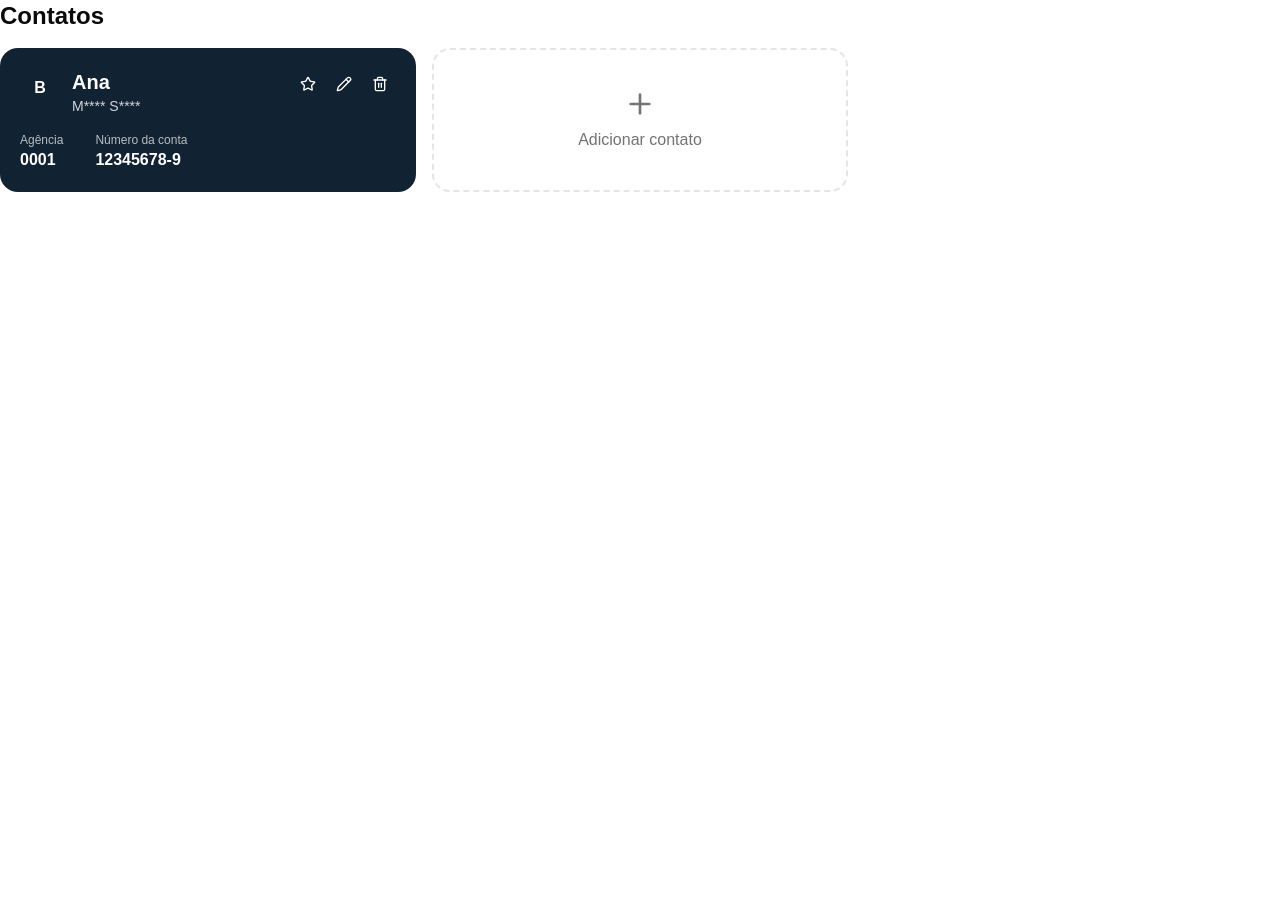
Test: lista de contatos › cancelar renomear descarta o rascunho: reabrir mostra o apelido real
expect the text "Ana" is shown: met, box [72, 71, 110, 93]
Click the button named "Renomear" at {"x": 344, "y": 84}, box [328, 68, 360, 100]
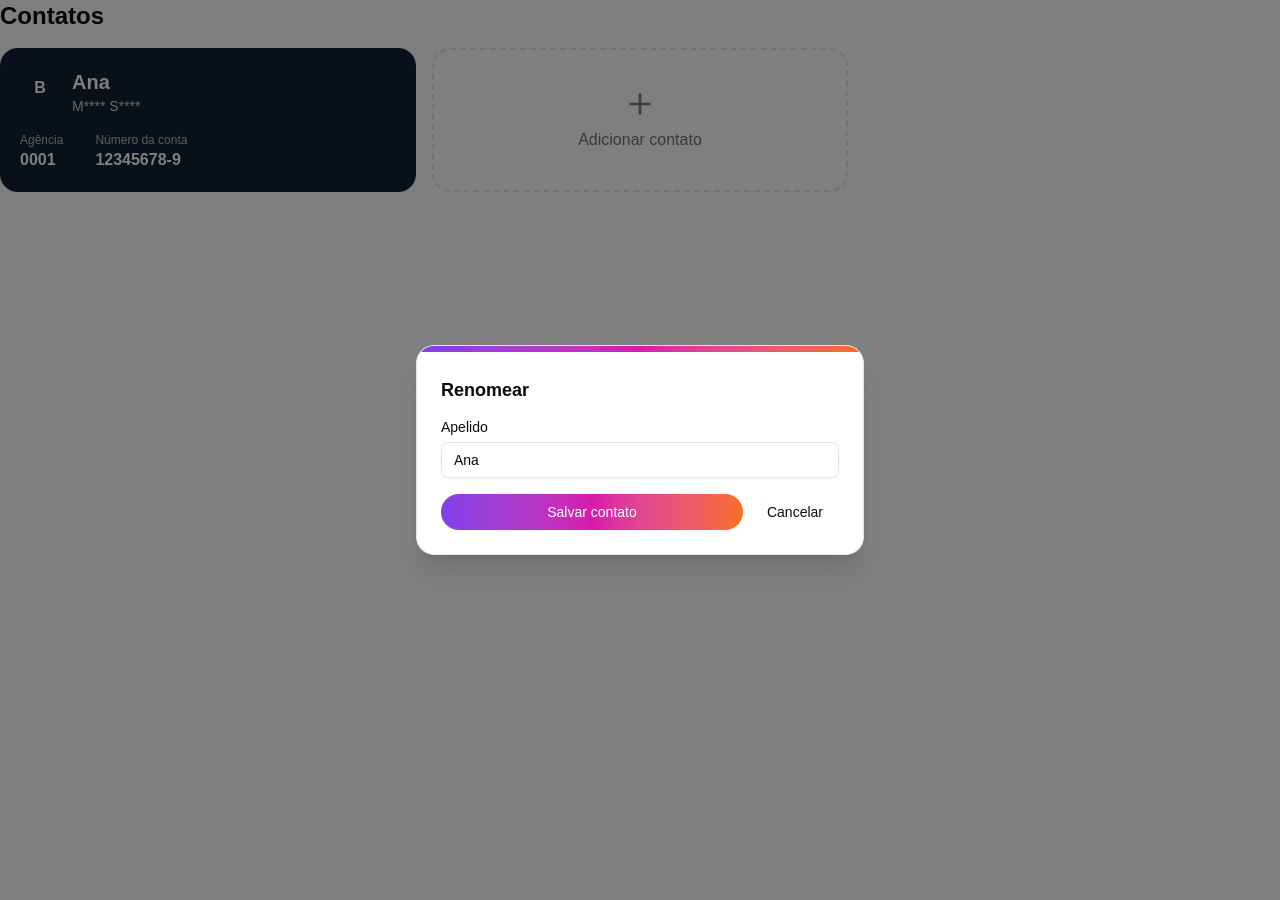
Replace the text in the field labelled "Apelido" with "Rascunho Abandonado" at {"x": 640, "y": 460}, box [441, 442, 839, 478]
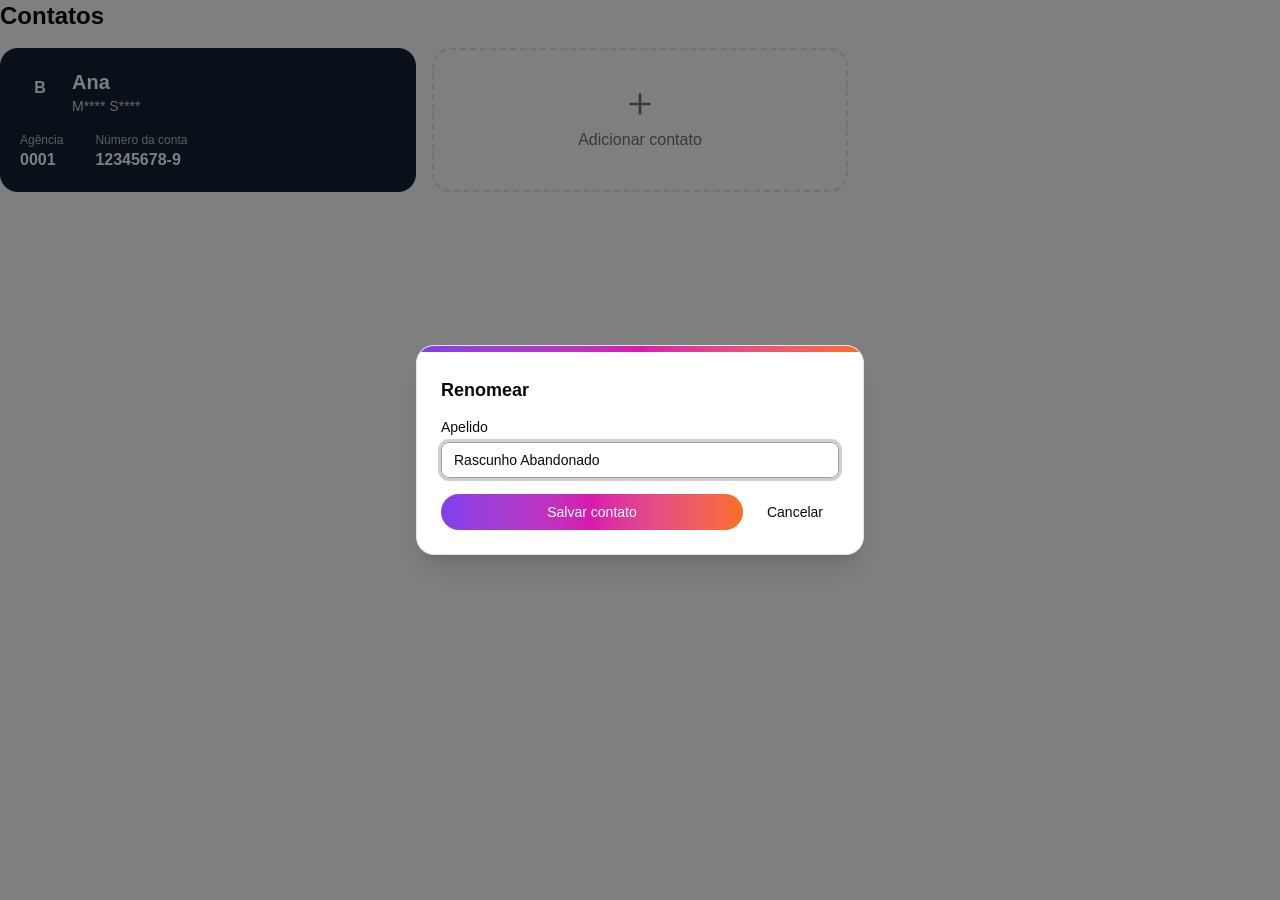
Click the button "Cancelar" at {"x": 795, "y": 512}, box [751, 494, 839, 530]
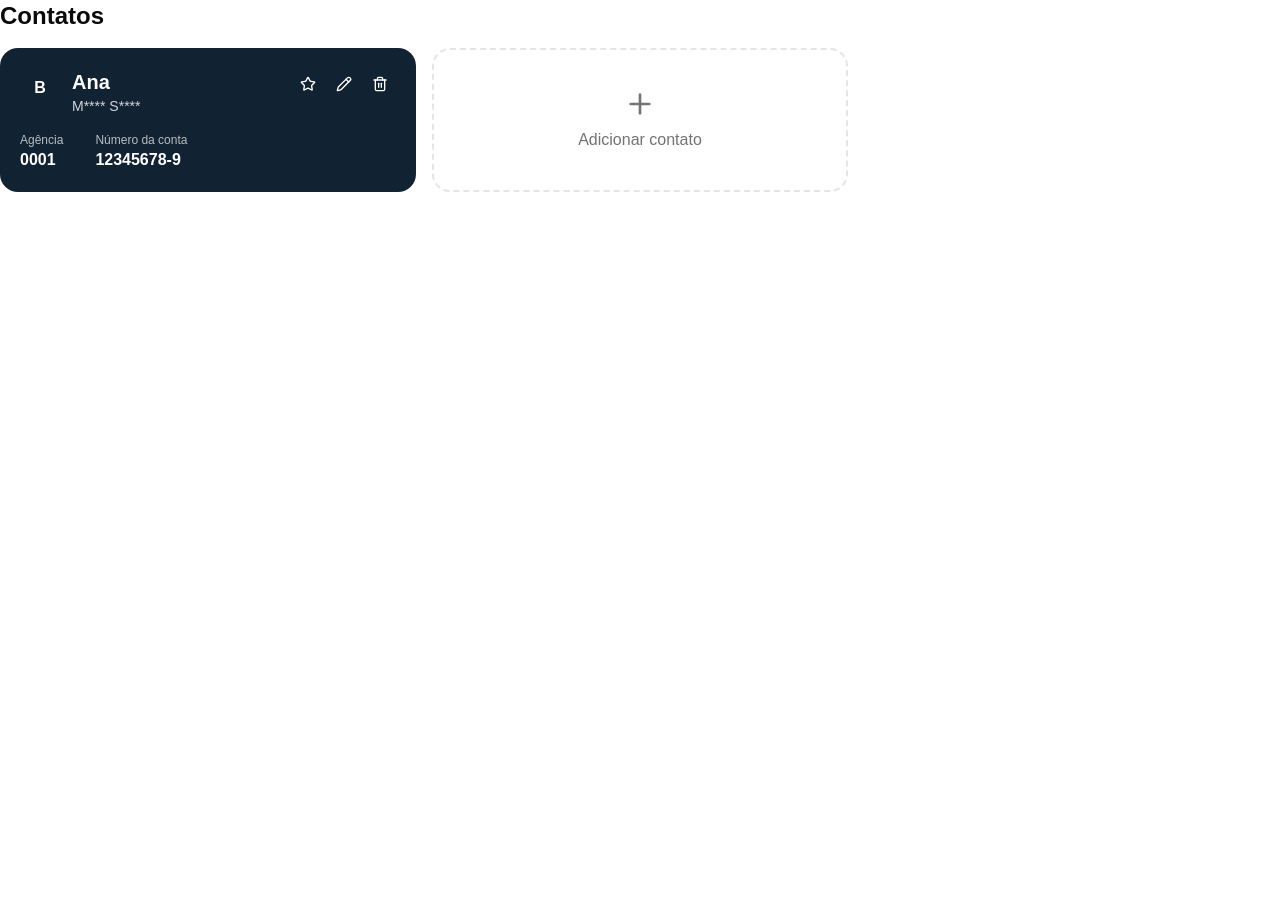
Click the button named "Renomear" at {"x": 344, "y": 84}, box [328, 68, 360, 100]
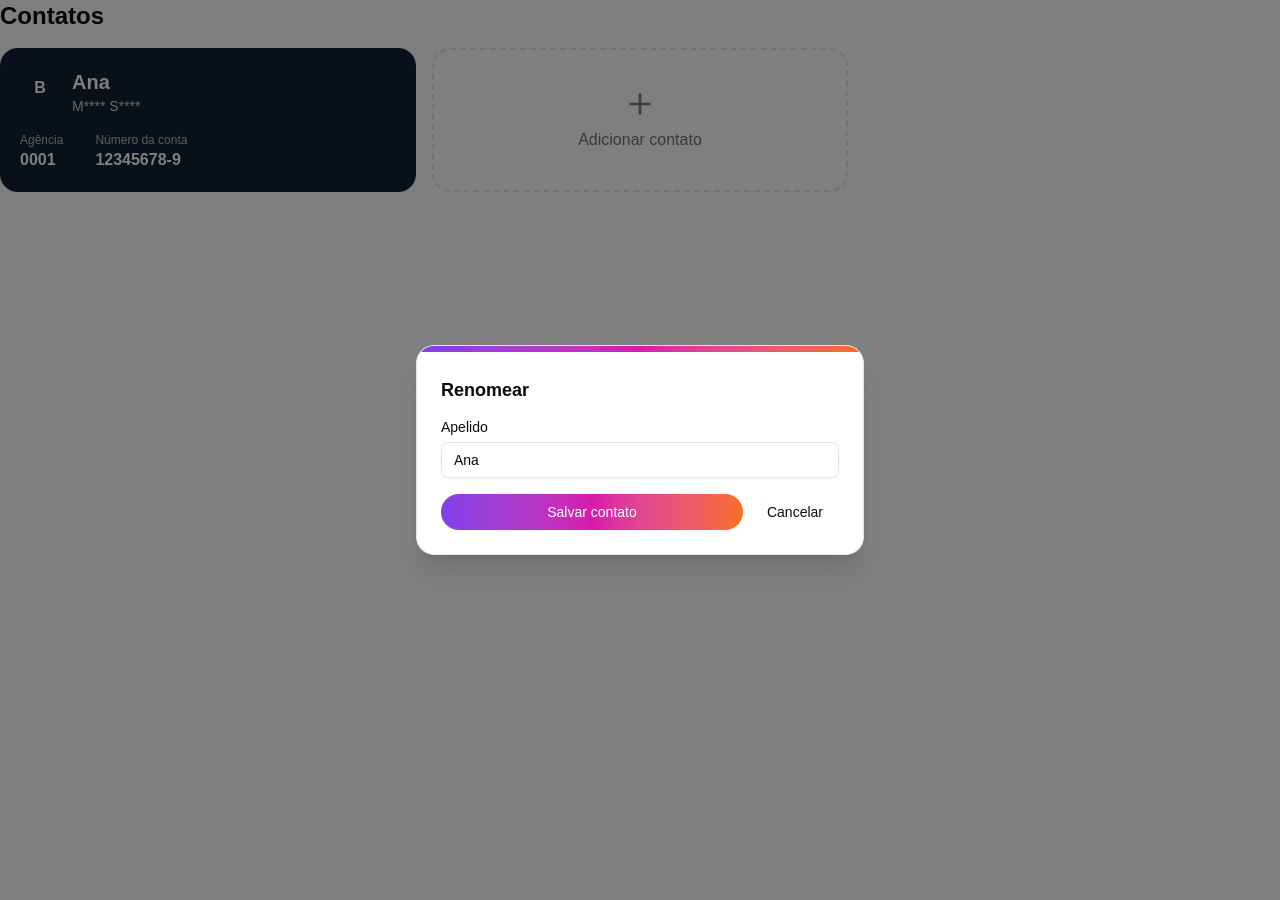
expect the field labelled "Apelido" holds "Ana": met, box [441, 442, 839, 478]
